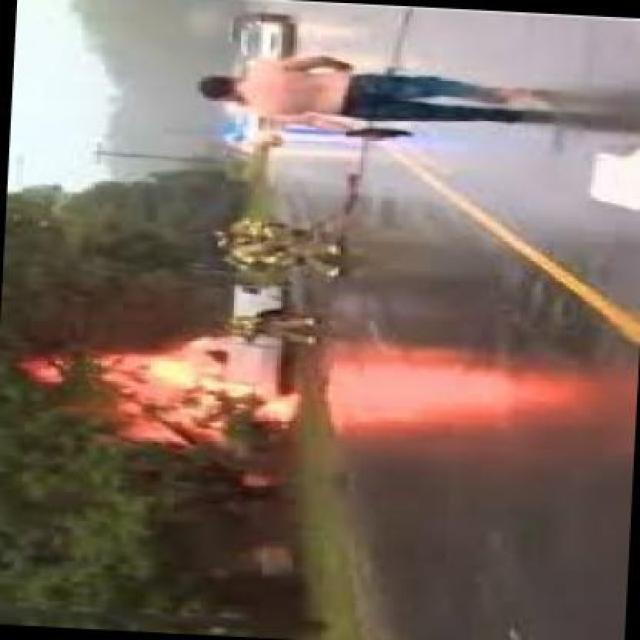Fire: (24, 331, 312, 476)
